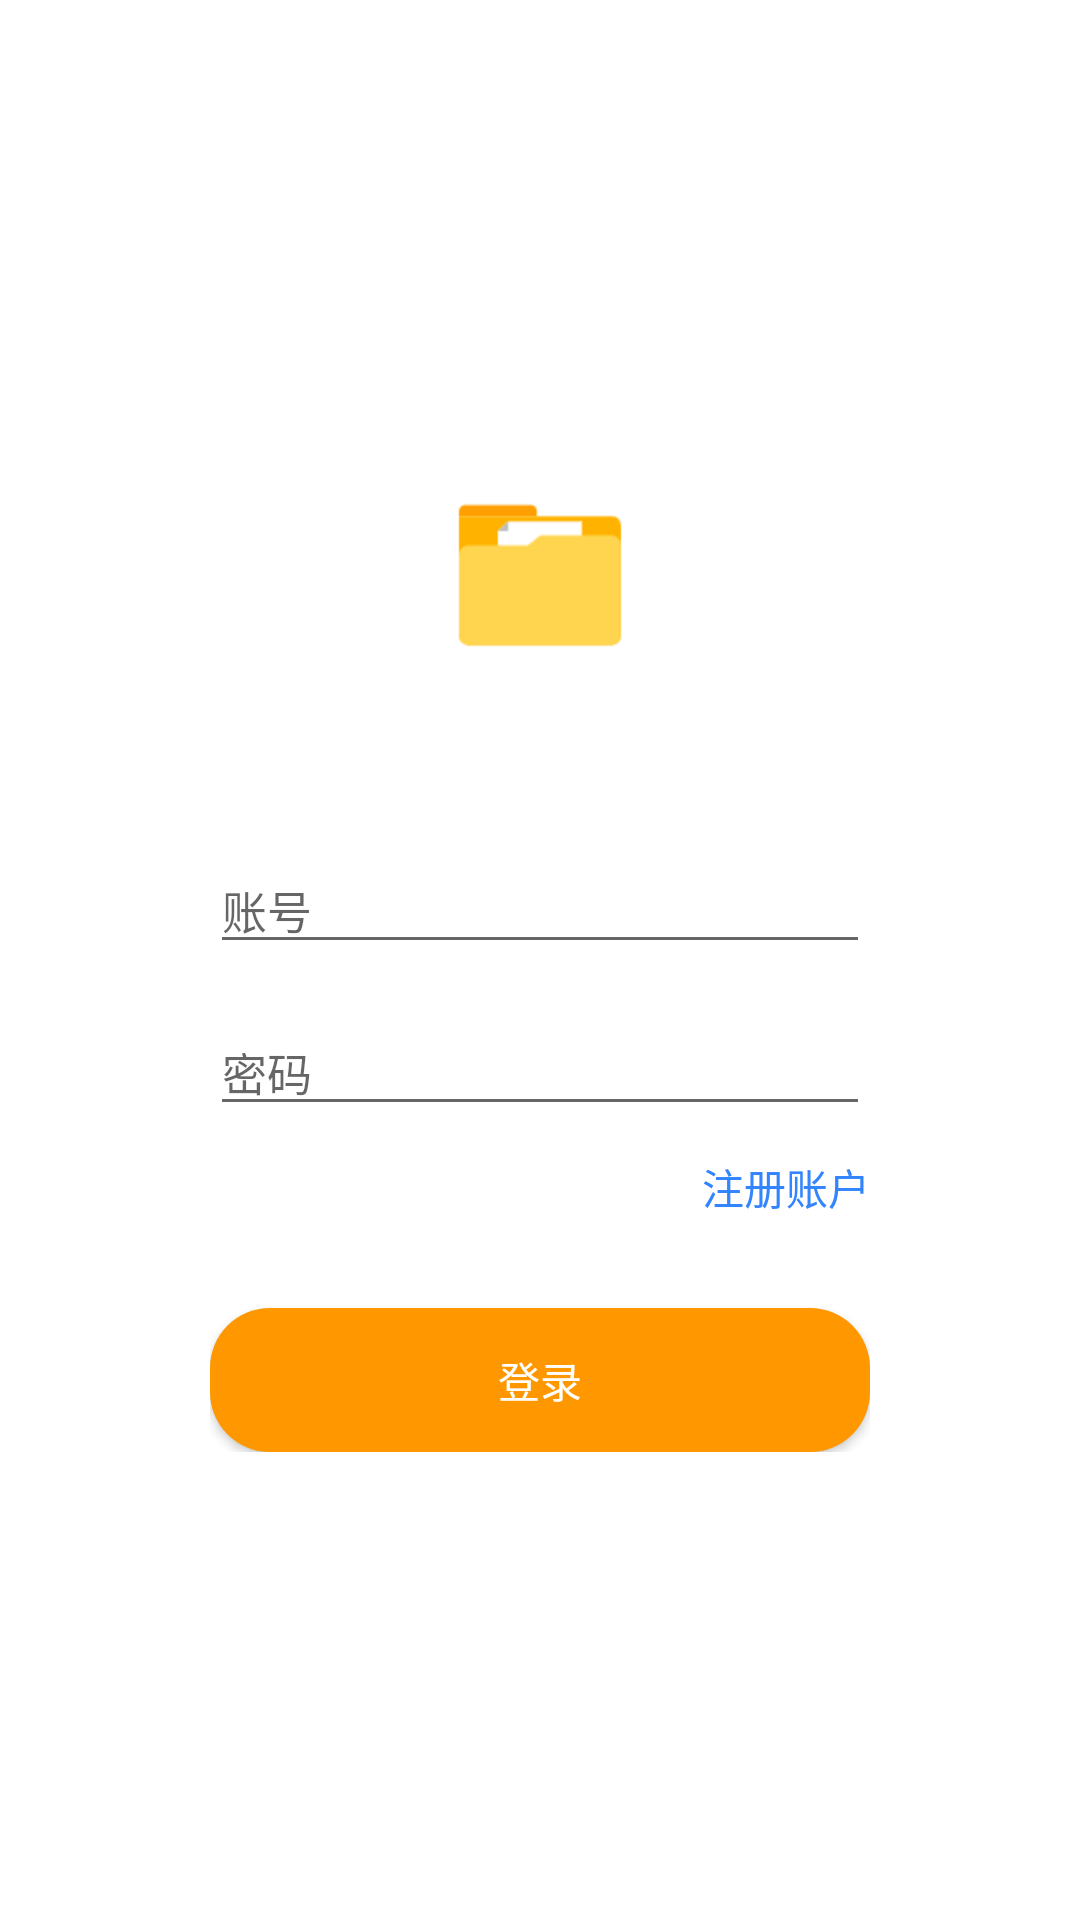

Point at icon controls on the screen. Image size 1080px×1920px, points as (x,y).
files: (540,575)
